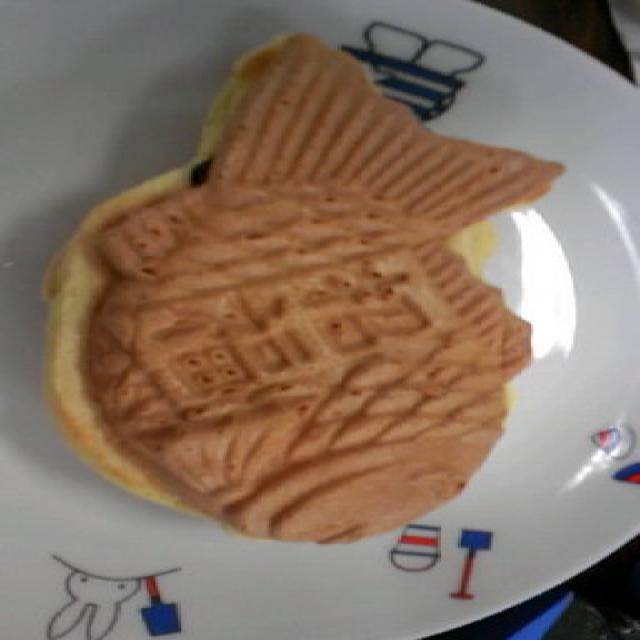熟制海鲜: (27, 4, 573, 568)
